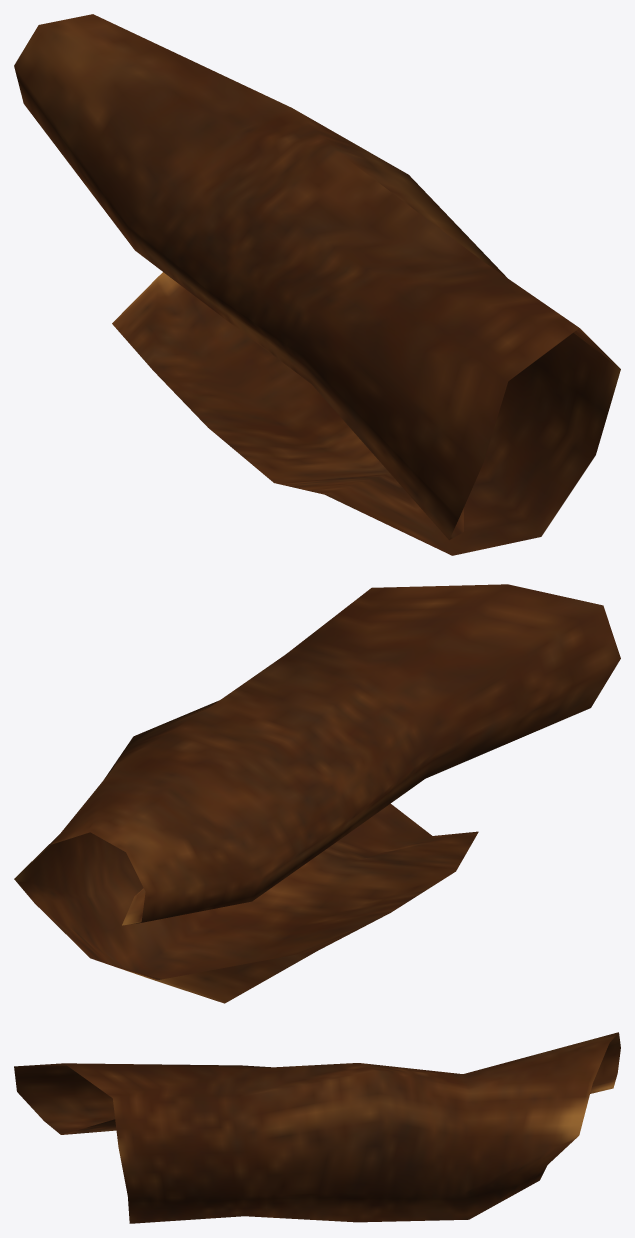
File: assets_bughotel_bark_dark.fbx
3 renders of one model, top to bottom at view 1: azimuth 30°, elevation 25°; view 2: azimuth 150°, elevation 25°; view 3: azimuth 270°, elevation 25°, orthographic. The views are drawn at different scales.
Visible parts, largest first — view 1: assets_bughotel_bark_dark; view 2: assets_bughotel_bark_dark; view 3: assets_bughotel_bark_dark.
Boxes of the visible parts, left/top/right/bottom form: assets_bughotel_bark_dark: left=14, top=14, right=620, bottom=555; assets_bughotel_bark_dark: left=14, top=584, right=620, bottom=1003; assets_bughotel_bark_dark: left=14, top=1032, right=620, bottom=1223.
Size of the model in its own units: 0.7265 by 0.7677 by 2.49.
